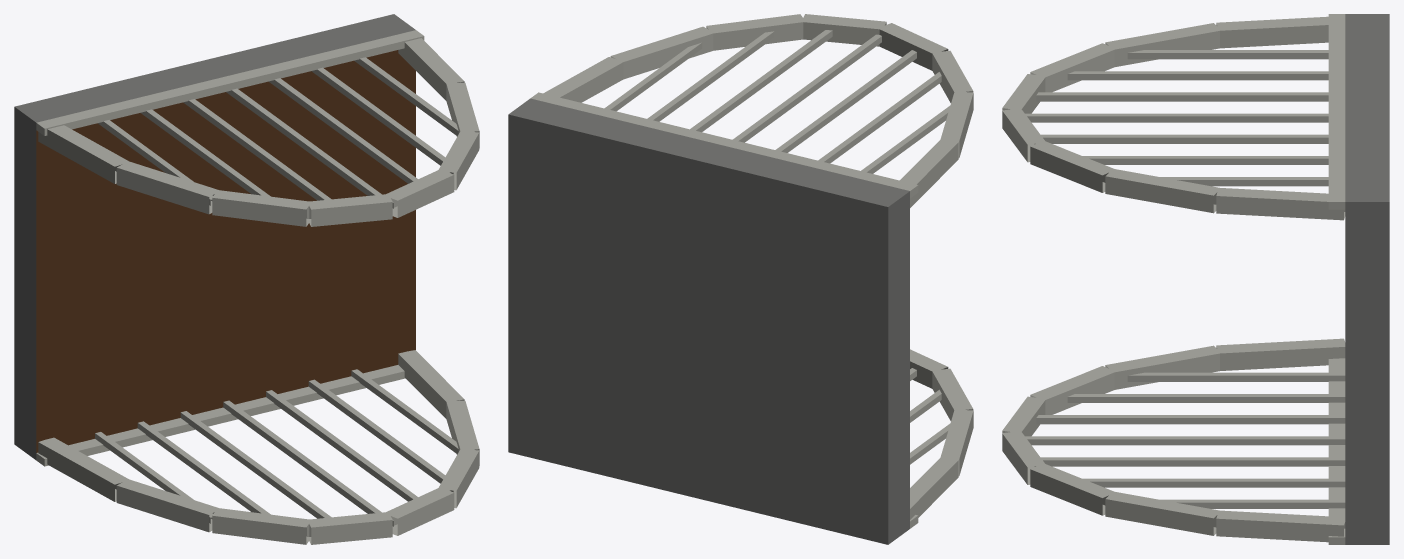
The model's file is middle.glb.
3 renders of one model, left to right at view 1: azimuth 30°, elevation 25°; view 2: azimuth 150°, elevation 25°; view 3: azimuth 270°, elevation 25°, orthographic.
Parts seen in each view (by area): view 1: bridge_02_middle; view 2: bridge_02_middle; view 3: bridge_02_middle.
Boxes of the visible parts, x1,y1,x2,y2 form: bridge_02_middle: (14,14,479,544); bridge_02_middle: (508,14,973,544); bridge_02_middle: (1002,14,1389,544).
Bounding box in the file's own units: 16 × 13.6 × 13.93.
